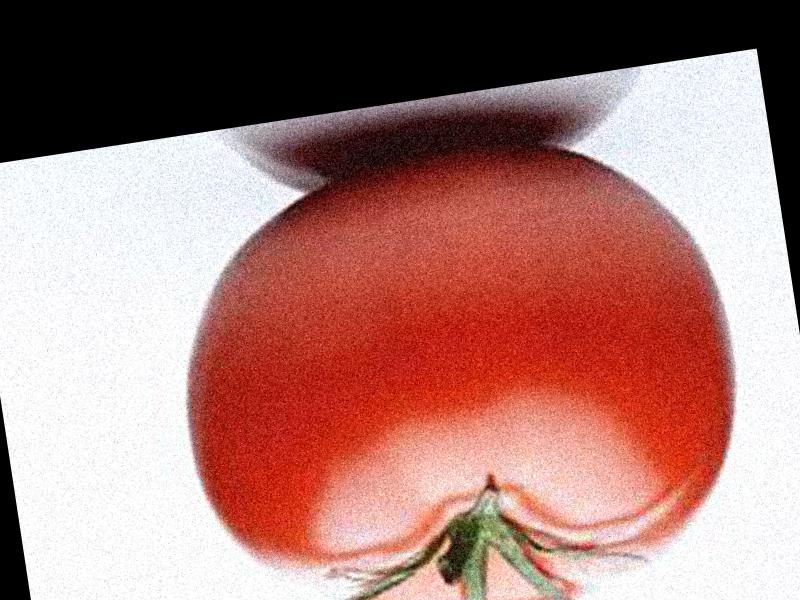Tomato: (157, 119, 767, 600)
